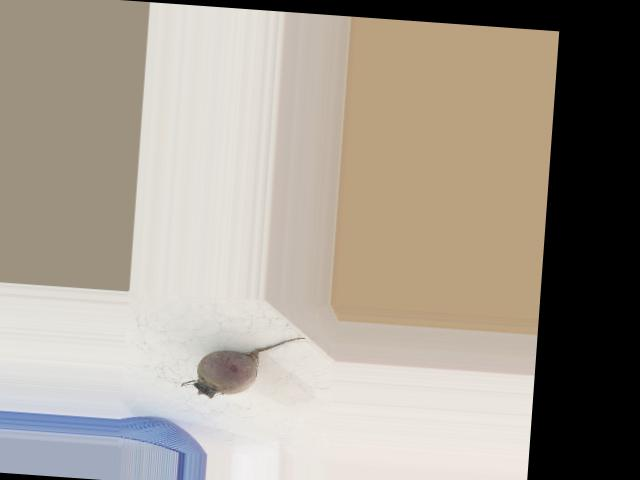beet: (181, 328, 305, 404)
